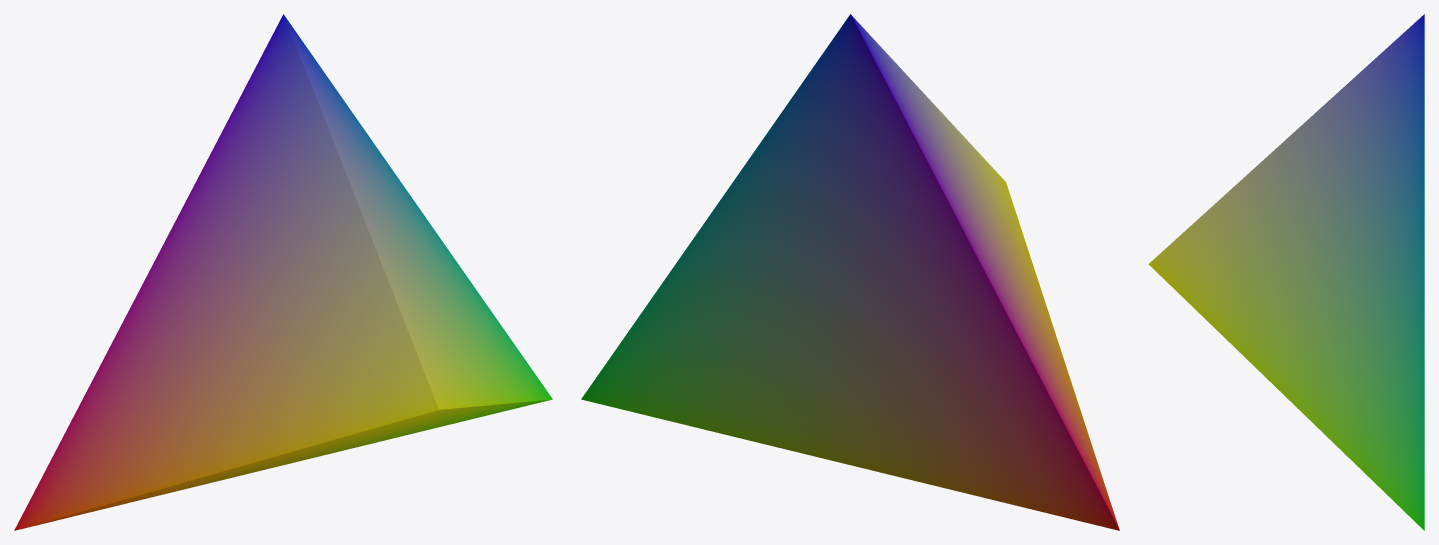
The model's file is marker.obj.
3 renders of one model, left to right at view 1: azimuth 30°, elevation 25°; view 2: azimuth 150°, elevation 25°; view 3: azimuth 270°, elevation 25°, orthographic. The views are drawn at different scales.
Parts seen in each view (by area): view 1: Marker; view 2: Marker; view 3: Marker.
Boxes of the visible parts, x1,y1,x2,y2 form: Marker: (14,14,552,530); Marker: (581,14,1119,530); Marker: (1148,14,1424,530).
Bounding box in the file's own units: 1 × 0.8 × 0.5.
